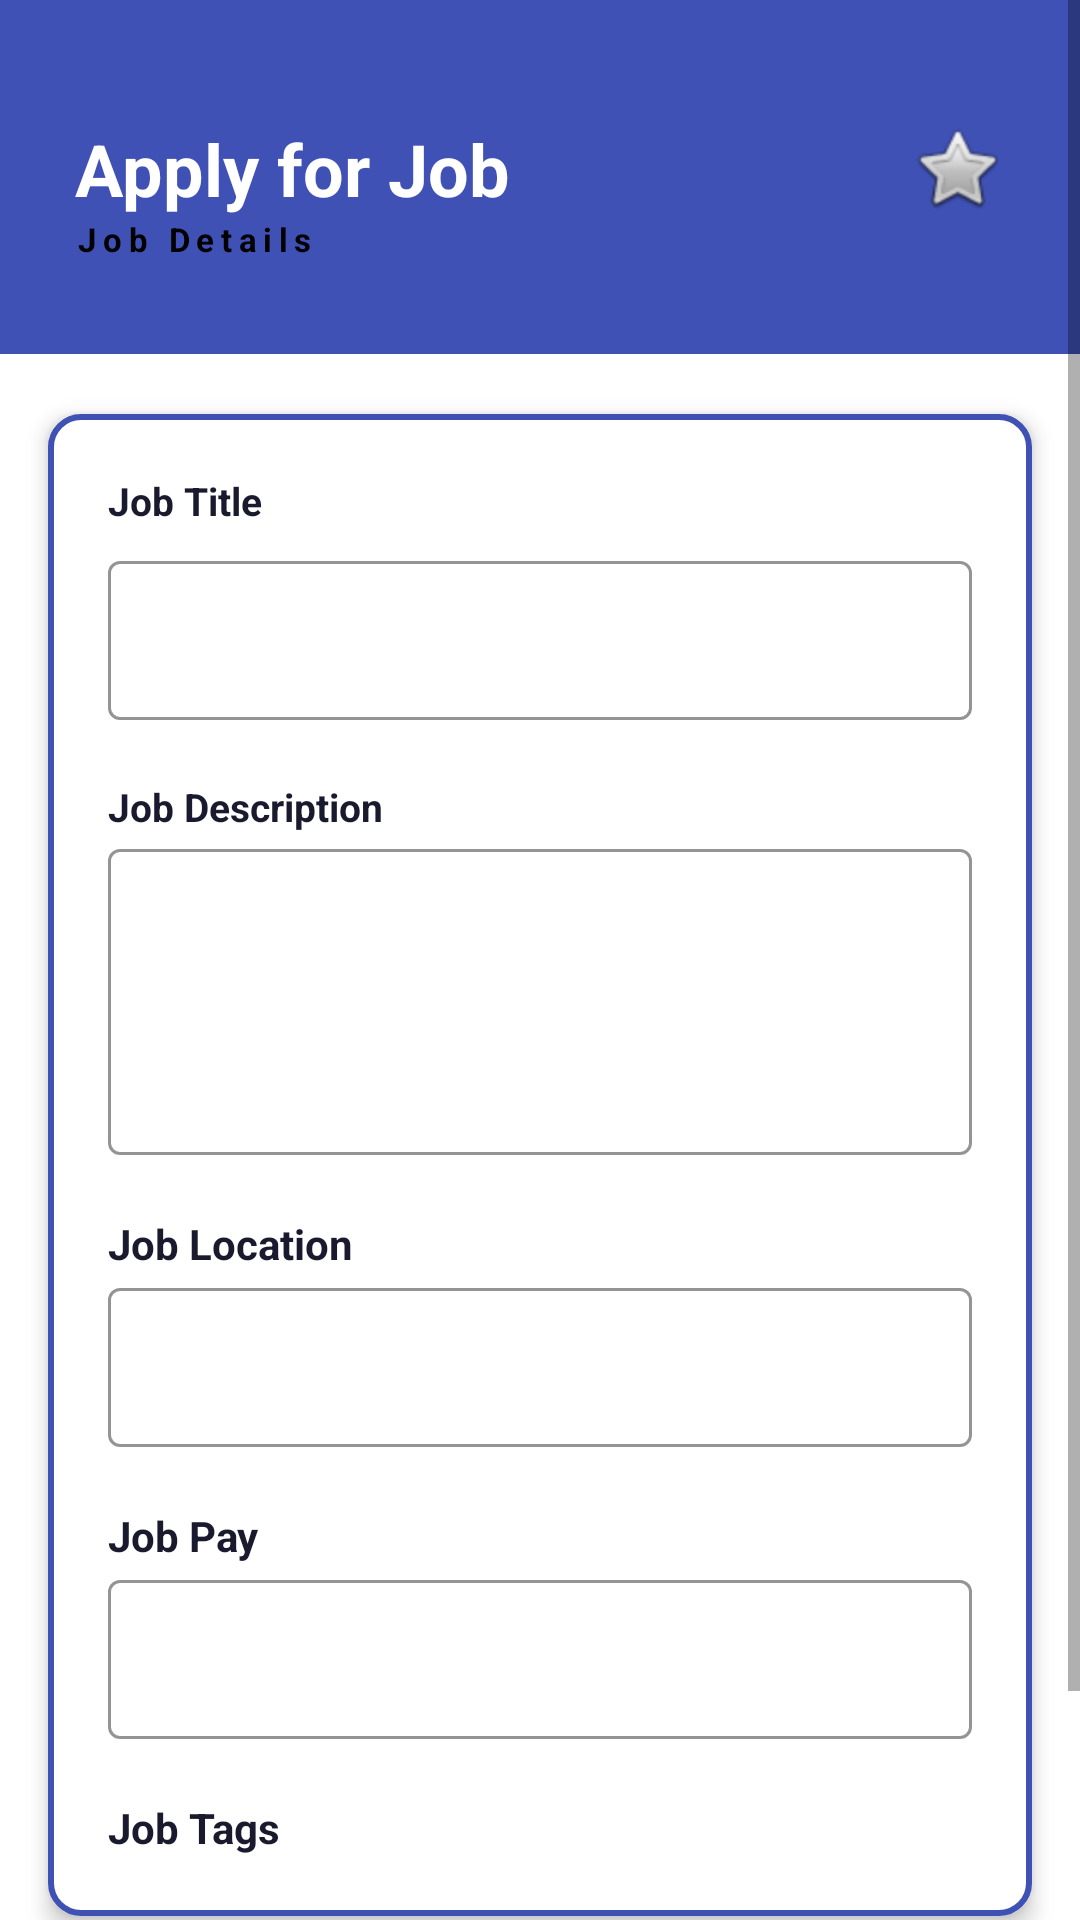

Screen size 1080w x 1920h. Icon name, then its box in pixels as (x1, y1, x2, y2):
Save job: (918, 130, 998, 207)
